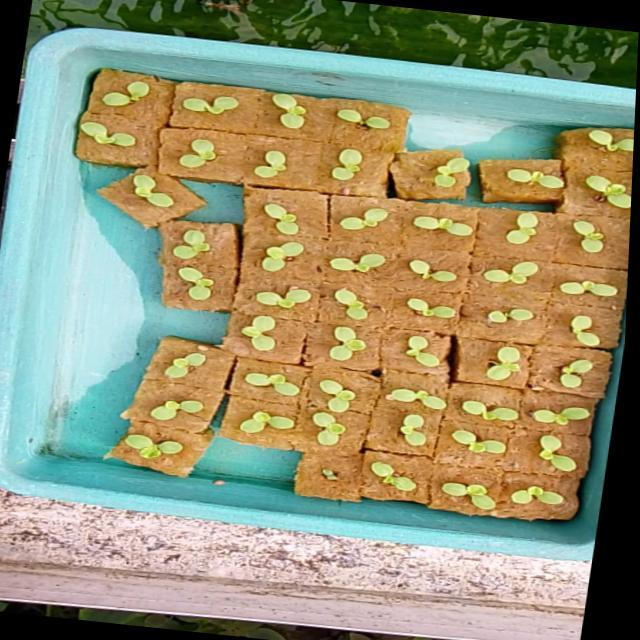Baby: (133, 170, 191, 217), (560, 212, 624, 253), (94, 74, 165, 110), (107, 110, 164, 146), (260, 278, 313, 312), (249, 241, 309, 271), (407, 334, 458, 369), (252, 370, 312, 399), (482, 308, 549, 333), (569, 360, 613, 397), (451, 484, 506, 513), (539, 407, 605, 430), (132, 431, 189, 457), (176, 93, 243, 115), (379, 462, 426, 493), (176, 221, 214, 258), (395, 389, 457, 411), (551, 436, 587, 473), (414, 257, 467, 282), (249, 313, 284, 350), (495, 347, 532, 382), (490, 260, 546, 283), (339, 325, 375, 360), (277, 92, 312, 128), (471, 401, 529, 422), (328, 379, 364, 412), (269, 200, 303, 234), (321, 410, 354, 444), (340, 287, 375, 319), (336, 252, 392, 272), (172, 350, 213, 377), (247, 414, 299, 435), (187, 138, 224, 167), (520, 487, 573, 507), (158, 398, 211, 418), (413, 297, 462, 318), (337, 147, 369, 179), (514, 212, 546, 243), (578, 316, 608, 347), (568, 280, 626, 296), (184, 274, 220, 299), (260, 148, 292, 176), (409, 415, 436, 448), (471, 437, 515, 455), (355, 207, 391, 229)
